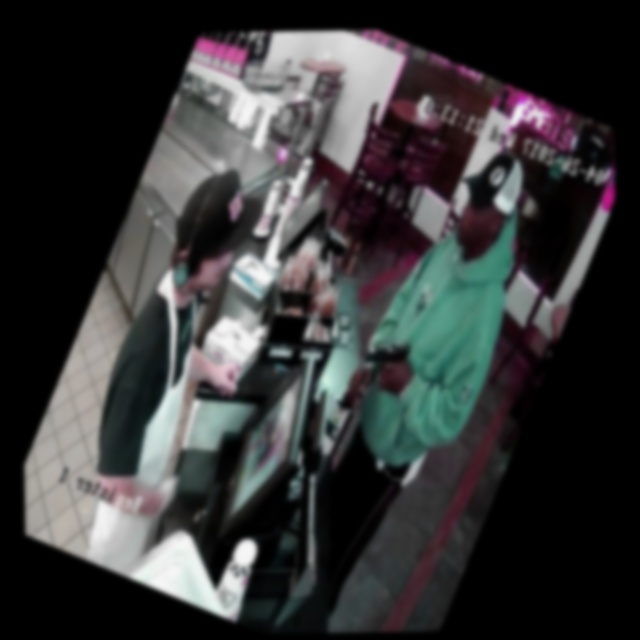gun: (347, 312, 434, 406)
